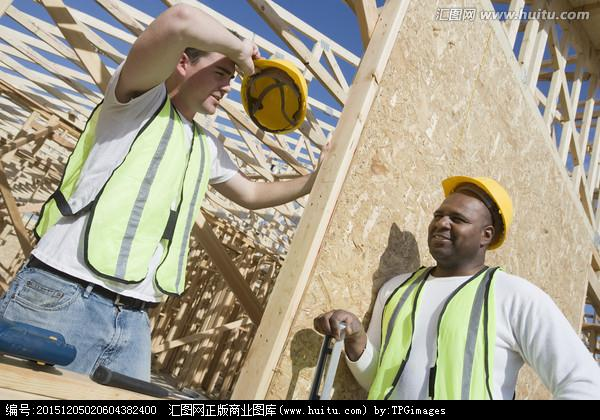helmet: (447, 169, 516, 245), (241, 55, 306, 135)
